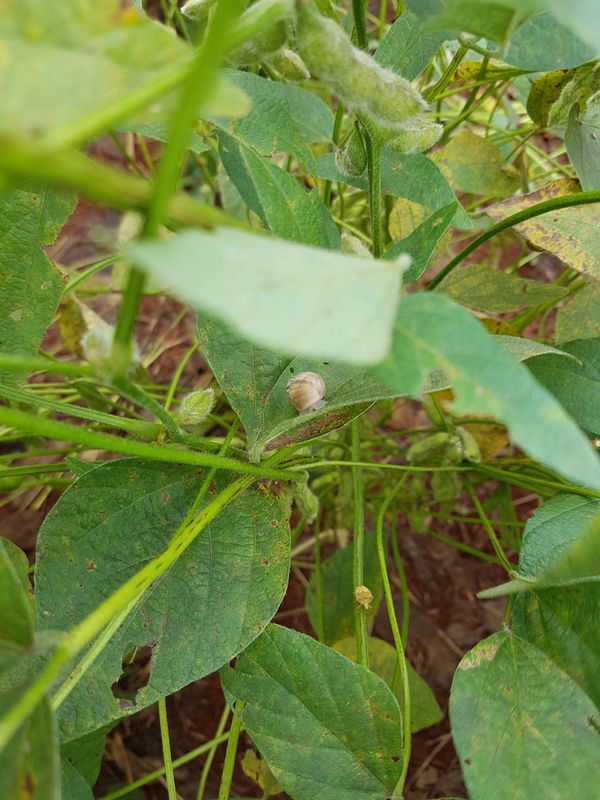Euschistus_heros_ninfa: (345, 580, 380, 615)
Gastropoda: (275, 365, 338, 421)
